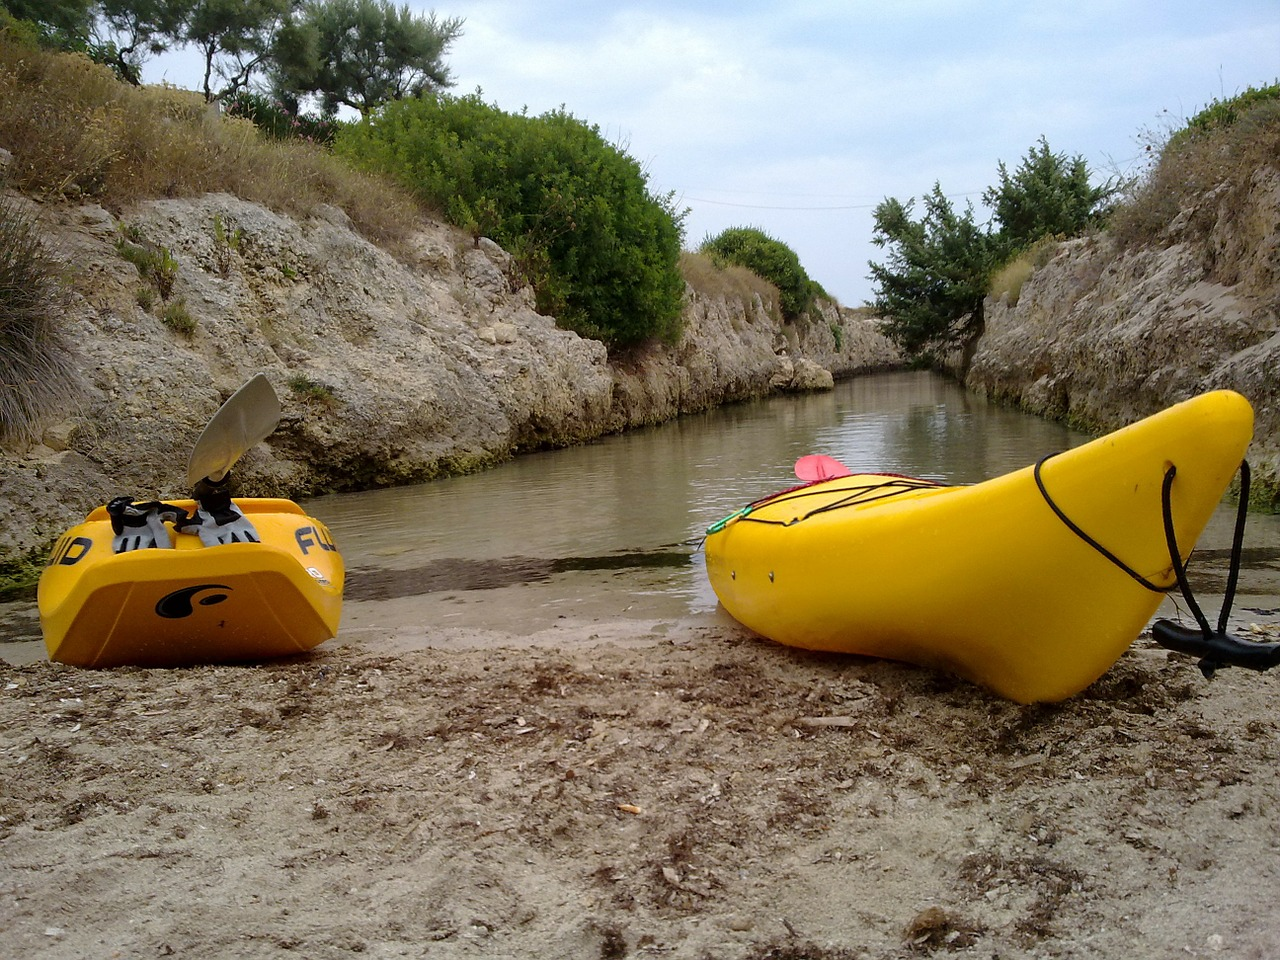kayak: (701, 386, 1257, 712), (32, 493, 350, 667)
